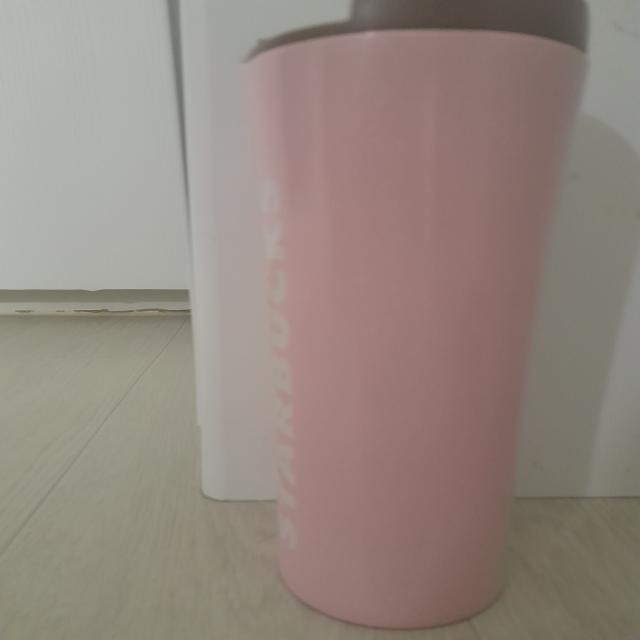waterbottle: (242, 1, 586, 626), (242, 0, 244, 2)
